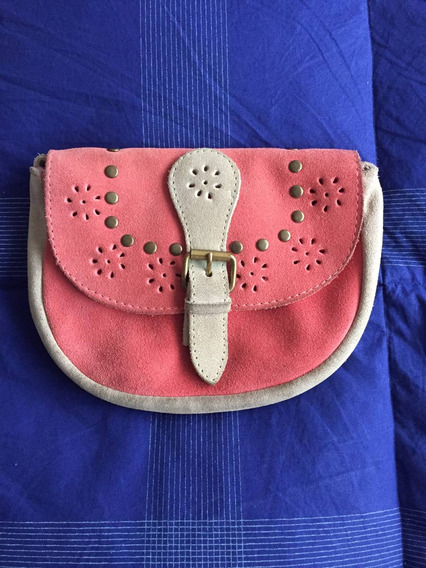cartera: (27, 144, 385, 416)
